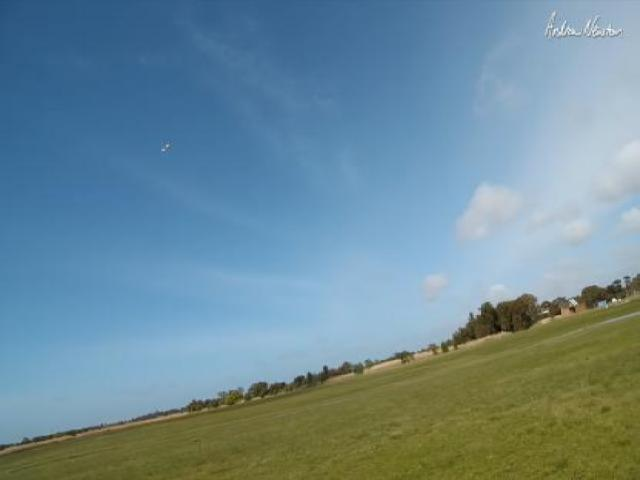uav: (157, 137, 174, 155)
